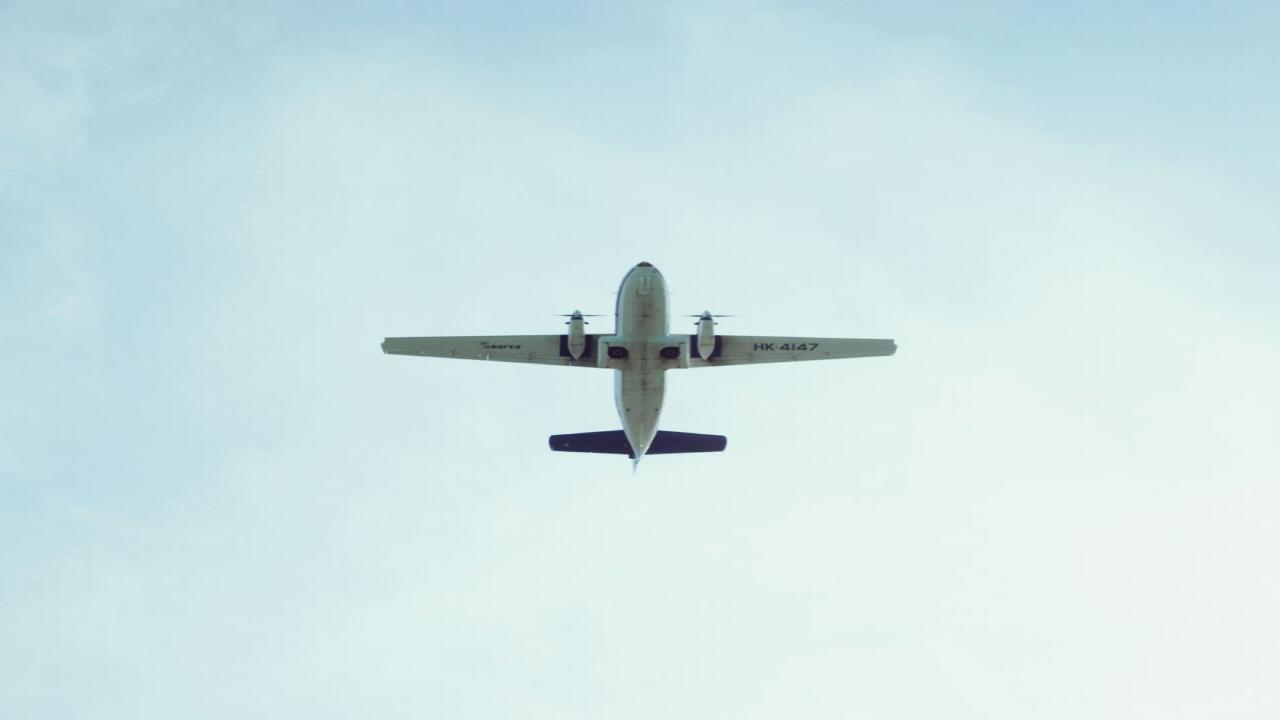Airplane: (360, 246, 915, 483)
